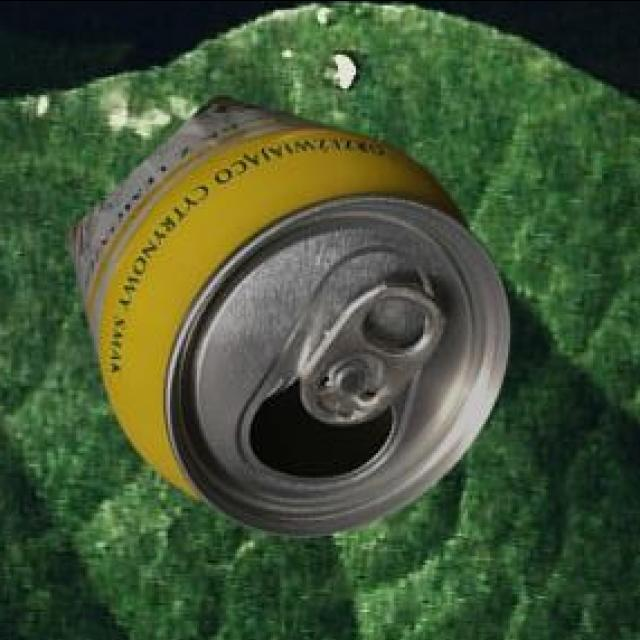logam: (66, 97, 507, 538)
